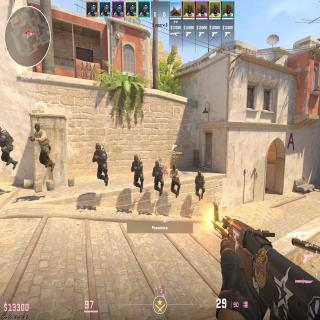CT-Body: (0, 129, 19, 170), (93, 142, 108, 185), (130, 154, 144, 193), (152, 160, 164, 196), (194, 170, 206, 201)
CT-Head: (95, 142, 102, 152), (134, 154, 139, 164), (156, 160, 160, 169), (198, 170, 201, 178)
T-Body: (34, 123, 56, 172), (170, 164, 180, 198)
T-Head: (34, 123, 40, 132), (173, 164, 176, 171)
